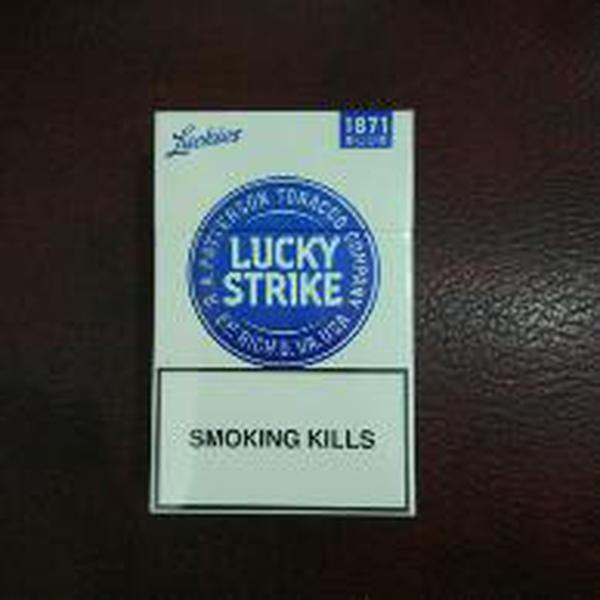lucky_strike_blue: (155, 112, 415, 509)
